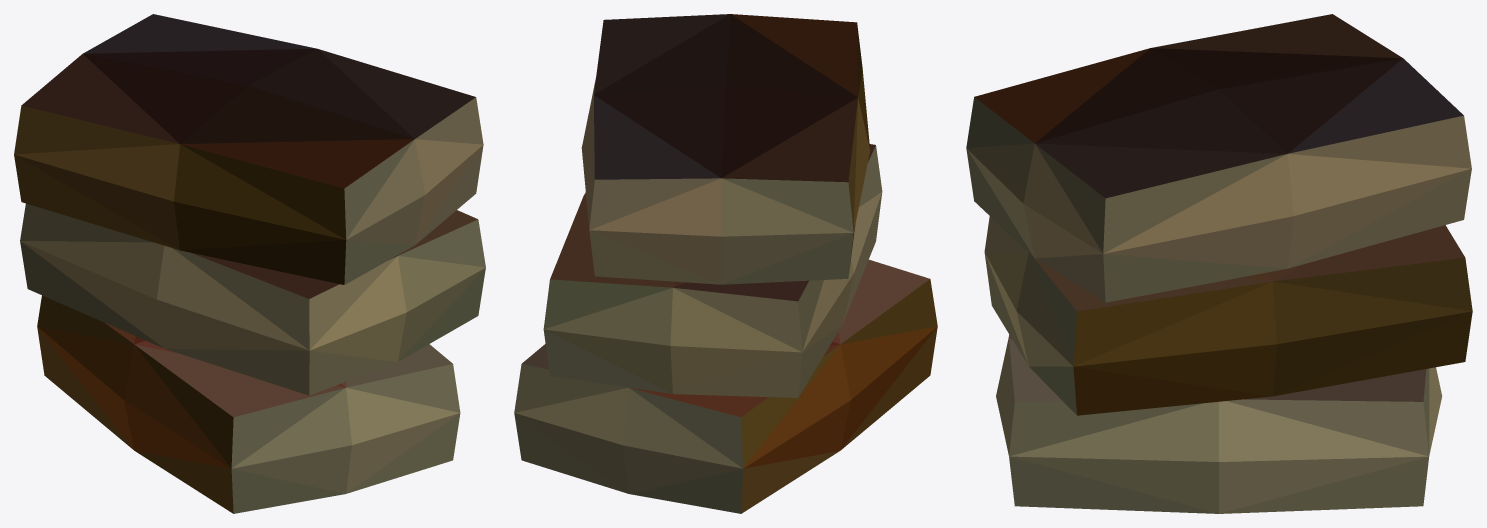
The model's file is prop_literature_book_pile_1.fbx.
The picture shows the model from 3 angles, left to right: view 1: azimuth 30°, elevation 25°; view 2: azimuth 150°, elevation 25°; view 3: azimuth 270°, elevation 25°; orthographic projection. The views are drawn at different scales.
Parts seen in each view (by area): view 1: prop_literature_book_pile_1; view 2: prop_literature_book_pile_1; view 3: prop_literature_book_pile_1.
Part boxes in pixels (bbox=[...]): prop_literature_book_pile_1: bbox=[14, 14, 485, 513]; prop_literature_book_pile_1: bbox=[514, 14, 937, 513]; prop_literature_book_pile_1: bbox=[966, 14, 1472, 513].
Size of the model in its own units: 0.7815 by 0.7178 by 0.8753.
